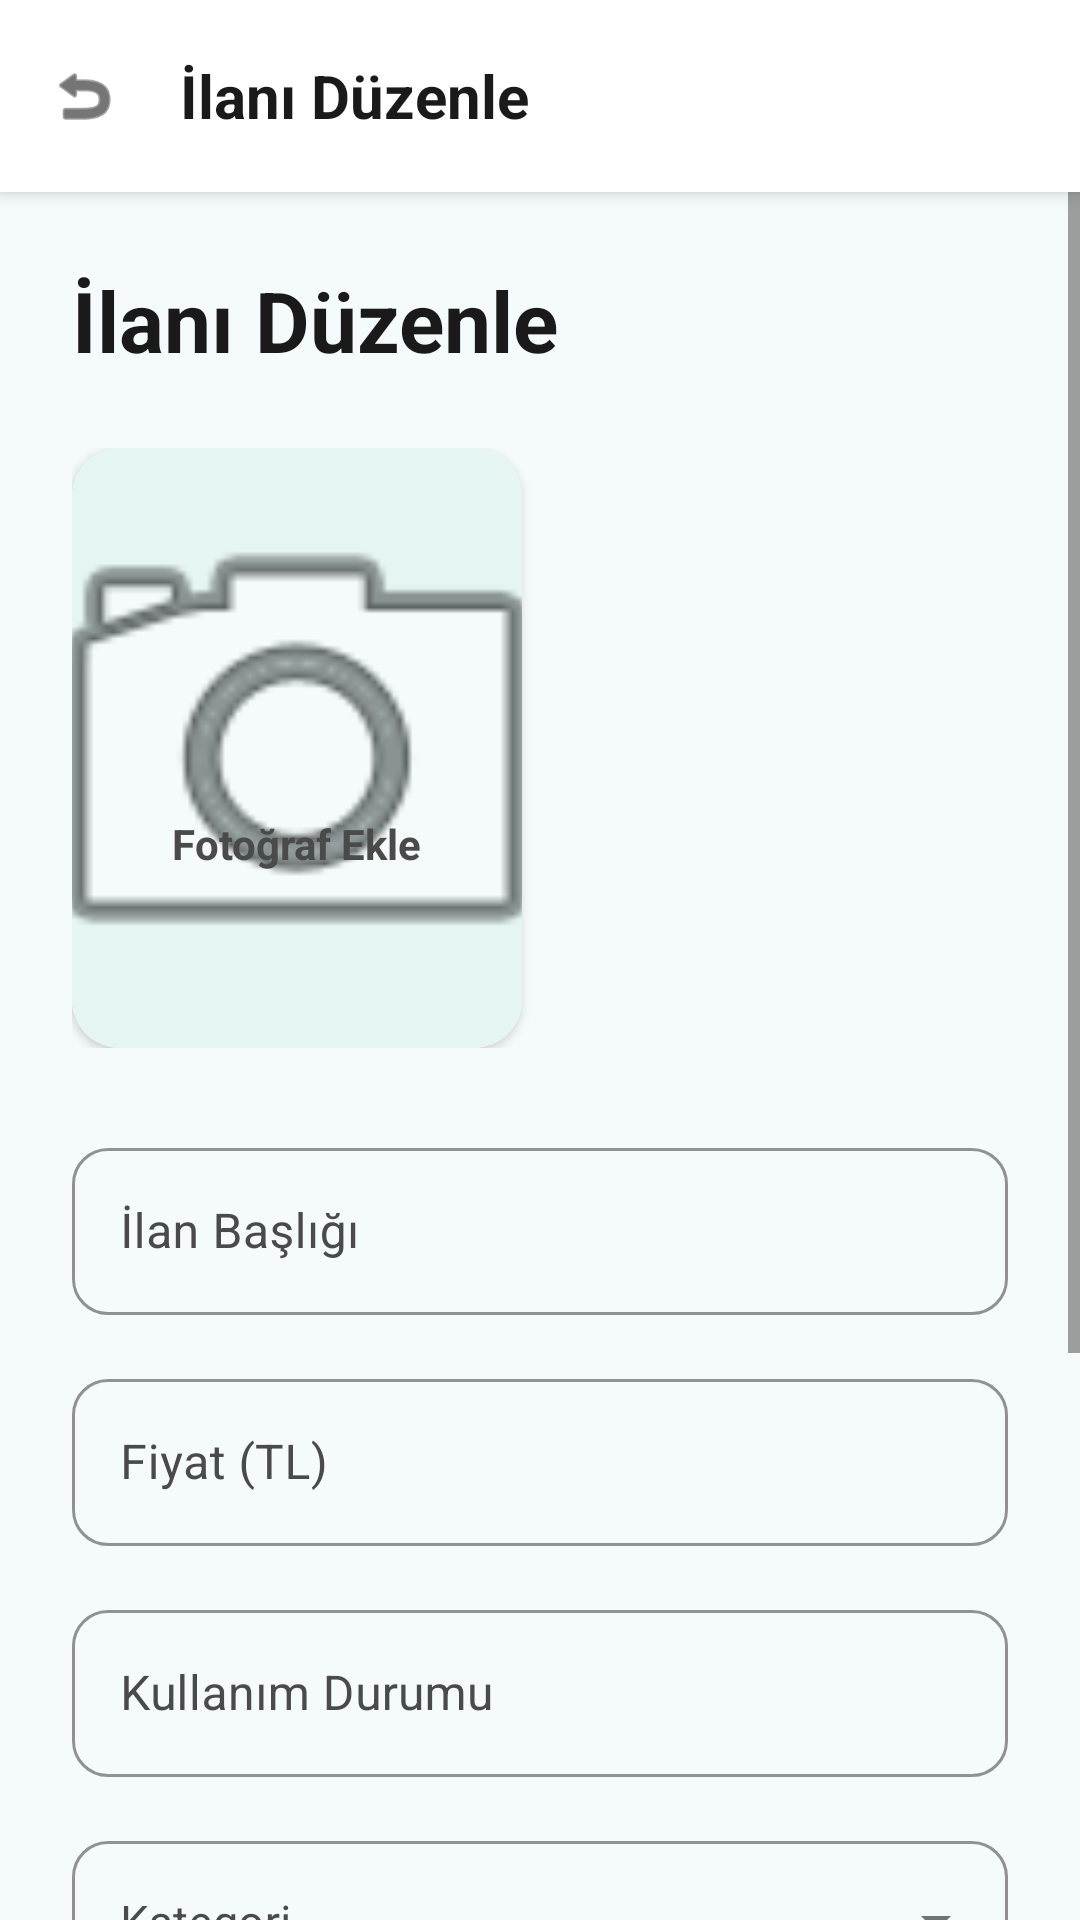

Icon click points for this 1080px x 1920px phone screenshot, format (x,y):
Geri: (85,96)
